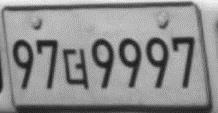7: (171, 36, 196, 89), (35, 38, 59, 91)
9: (11, 38, 35, 90), (145, 36, 169, 88), (90, 37, 114, 88), (118, 37, 142, 88)
더: (62, 47, 89, 89)
